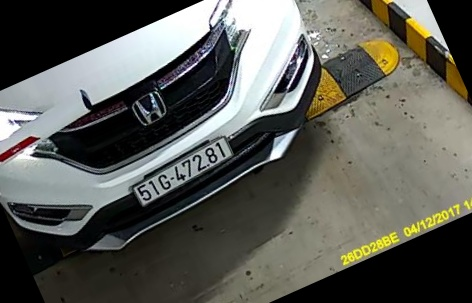plate: (131, 135, 247, 211)
